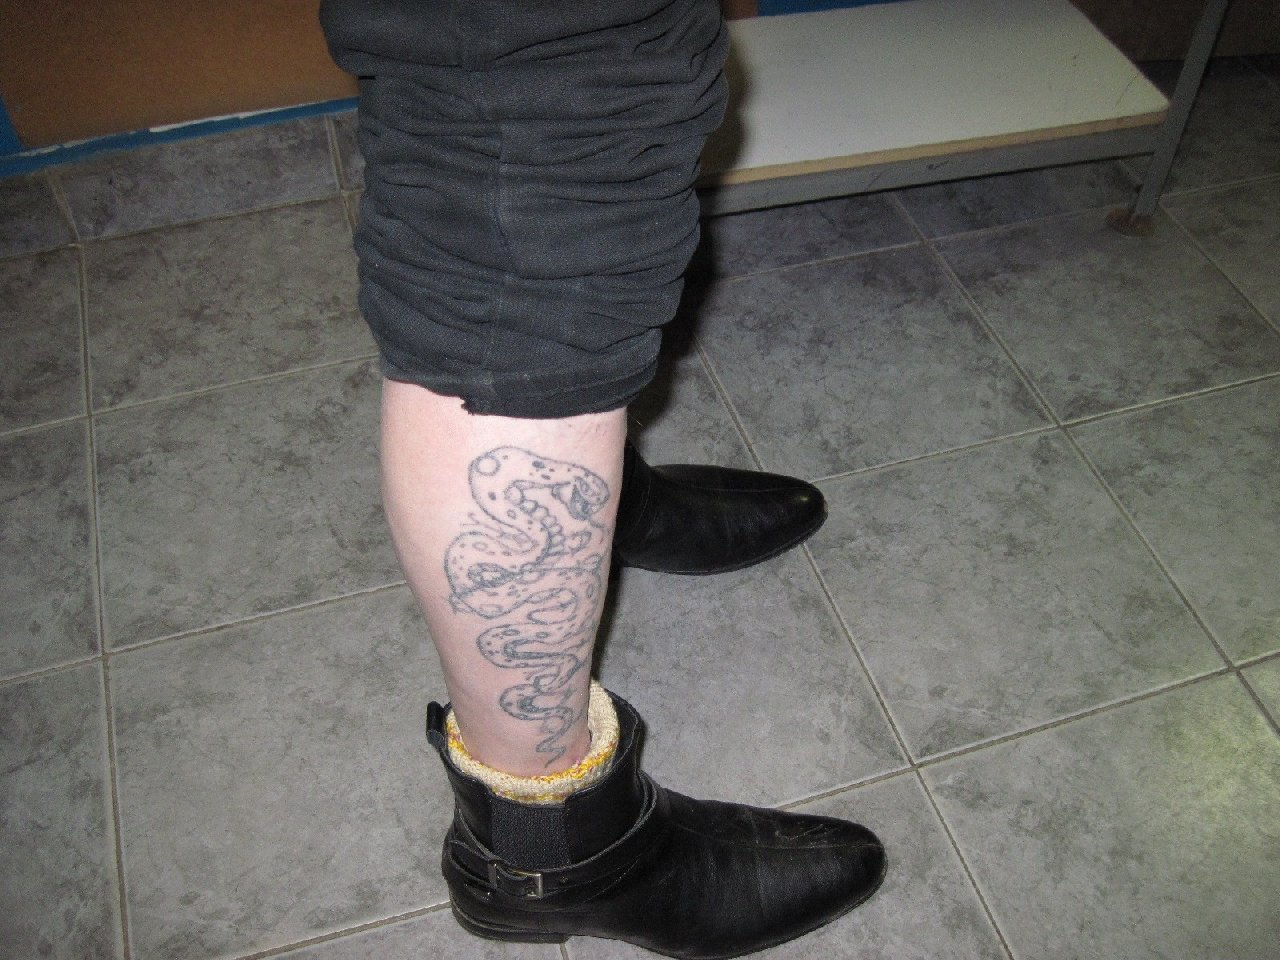tatu7_zmeya: (412, 433, 639, 781)
